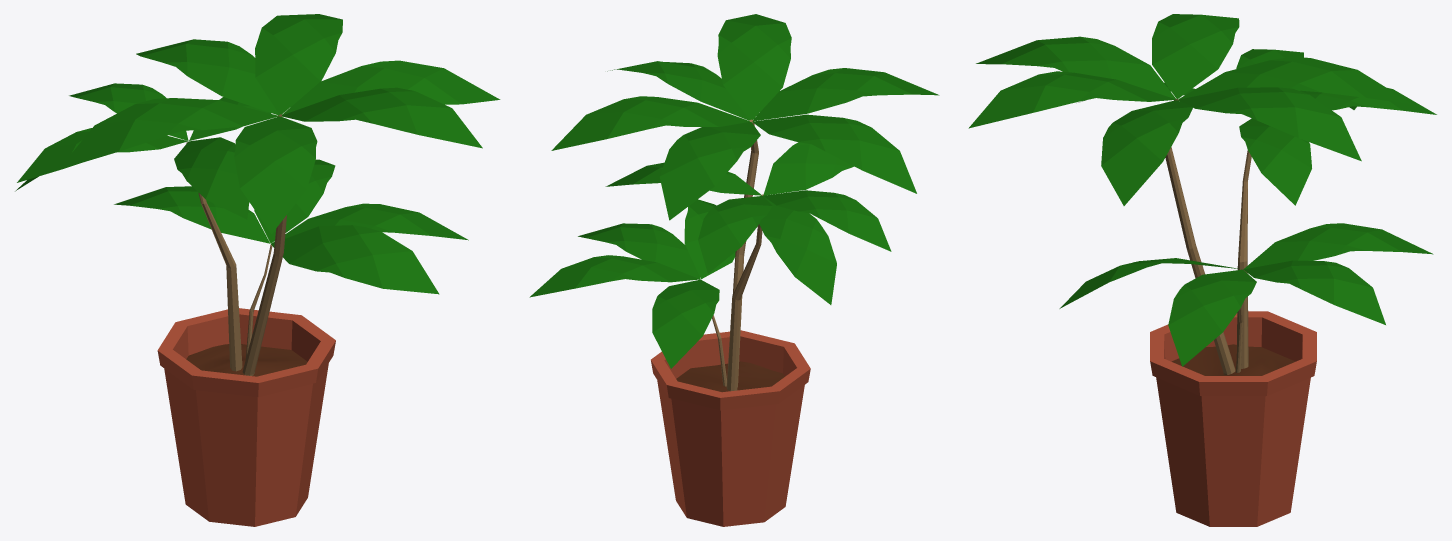
The model's file is plant.glb.
The picture shows the model from 3 angles, left to right: view 1: azimuth 30°, elevation 25°; view 2: azimuth 150°, elevation 25°; view 3: azimuth 270°, elevation 25°; orthographic projection. The views are drawn at different scales.
Parts seen in each view (by area): view 1: leaf.004, pot, leaf.003, leaf.014, tige.001, tige.002; view 2: leaf.004, pot, leaf.014, leaf.003, tige.001, tige.002; view 3: leaf.004, pot, leaf.003, leaf.014, tige.002, tige.001.
Boxes of the visible parts, x1,y1,x2,y2 form: leaf.004: [58, 14, 500, 233]; pot: [157, 308, 335, 526]; leaf.003: [114, 159, 468, 294]; leaf.014: [15, 83, 293, 219]; tige.001: [186, 142, 242, 371]; tige.002: [242, 114, 286, 375]; leaf.004: [551, 14, 939, 220]; pot: [651, 330, 810, 526]; leaf.014: [605, 142, 891, 304]; leaf.003: [529, 199, 735, 368]; tige.001: [726, 194, 763, 391]; tige.002: [732, 119, 758, 386]; leaf.004: [968, 14, 1413, 205]; pot: [1150, 311, 1316, 526]; leaf.003: [1059, 223, 1433, 366]; leaf.014: [1078, 49, 1436, 205]; tige.002: [1165, 98, 1235, 374]; tige.001: [1236, 150, 1251, 368].
Bounding box in the file's own units: 5.14 × 5.45 × 5.16.
